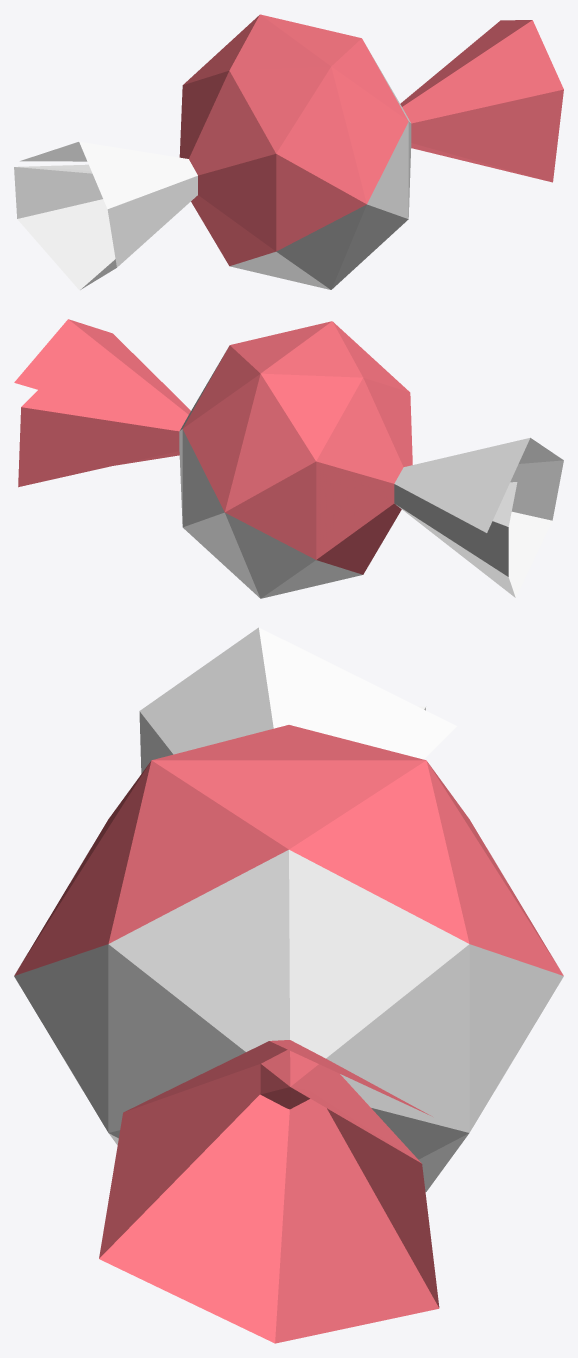
Rendered from candy_pink.fbx.
3 views of the same model, one above another, from view 1: azimuth 30°, elevation 25°; view 2: azimuth 150°, elevation 25°; view 3: azimuth 270°, elevation 25° (orthographic). The views are drawn at different scales.
Parts seen in each view (by area): view 1: candy_pink; view 2: candy_pink; view 3: candy_pink.
Boxes of the visible parts, bbox=[...] form: candy_pink: bbox=[14, 14, 563, 290]; candy_pink: bbox=[14, 319, 563, 598]; candy_pink: bbox=[14, 627, 563, 1343].
Size of the model in its own units: 6.54 by 2.86 by 3.3.
